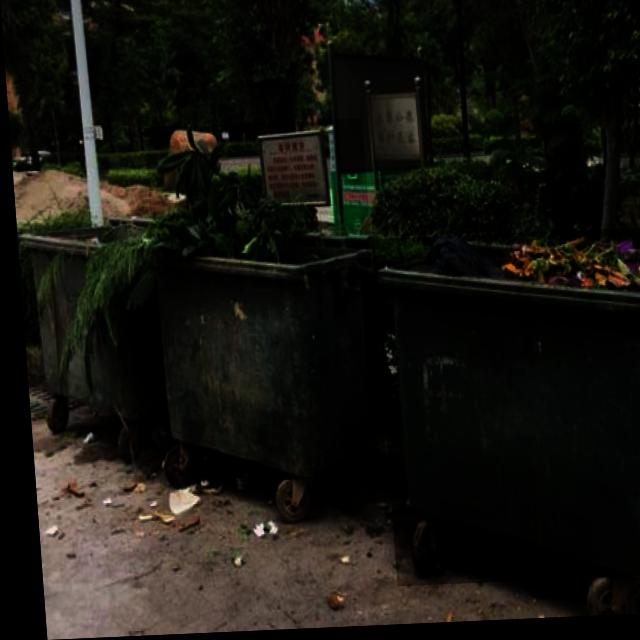overflow: (368, 233, 640, 590), (142, 122, 380, 486), (13, 217, 161, 423)
